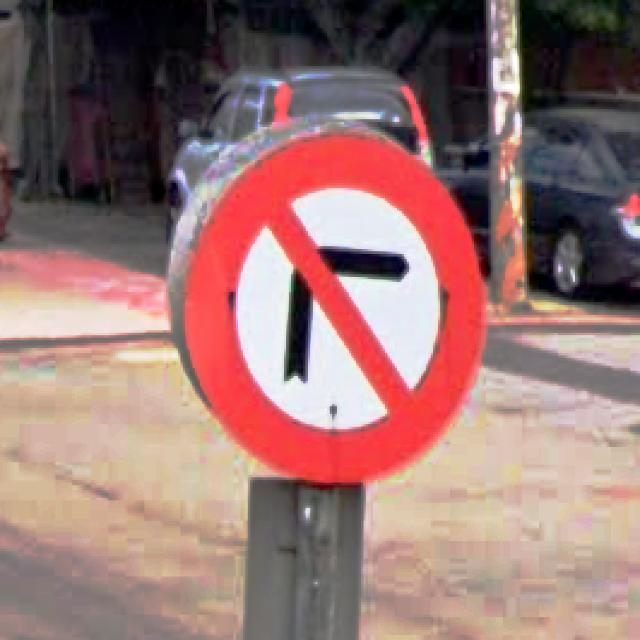noturnright: (164, 116, 488, 488)
